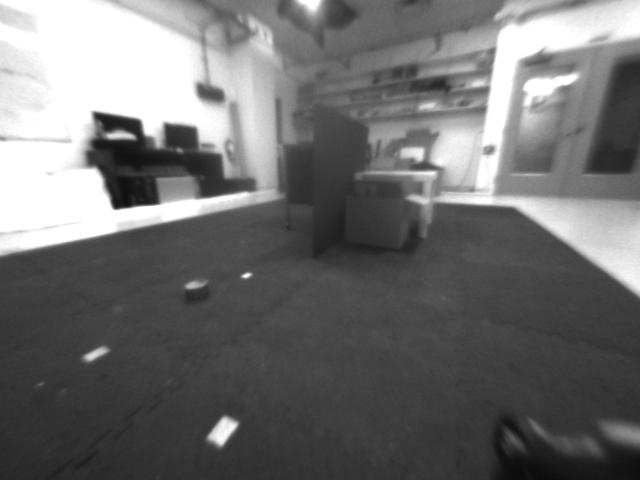dogtoy: (169, 272, 222, 308)
